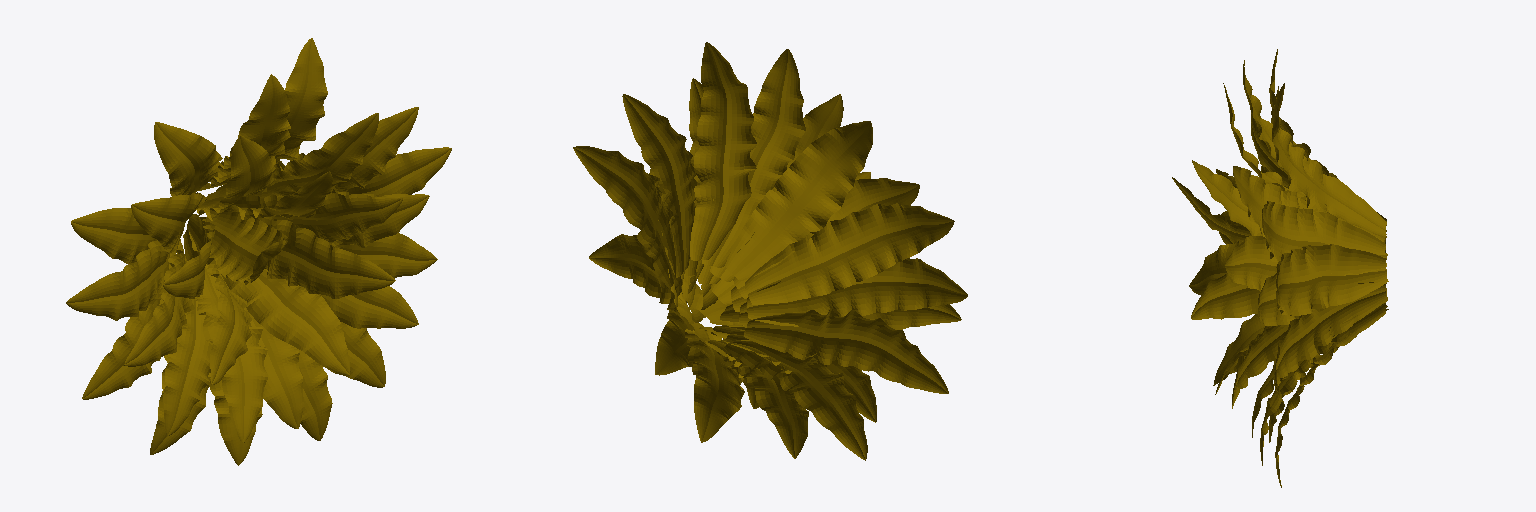
The model's file is fern_1.obj.
The picture shows the model from 3 angles: view 1: azimuth 30°, elevation 25°; view 2: azimuth 150°, elevation 25°; view 3: azimuth 270°, elevation 25°; orthographic projection.
Visible parts, largest first — view 1: Matteuccia_struthiopteris__C001; view 2: Matteuccia_struthiopteris__C001; view 3: Matteuccia_struthiopteris__C001.
Part boxes in pixels (left/top/right/bottom): Matteuccia_struthiopteris__C001: left=66, top=38, right=451, bottom=465; Matteuccia_struthiopteris__C001: left=573, top=42, right=967, bottom=460; Matteuccia_struthiopteris__C001: left=1172, top=49, right=1388, bottom=487.
Size of the model in its own units: 0.7326 by 0.7237 by 0.3531.